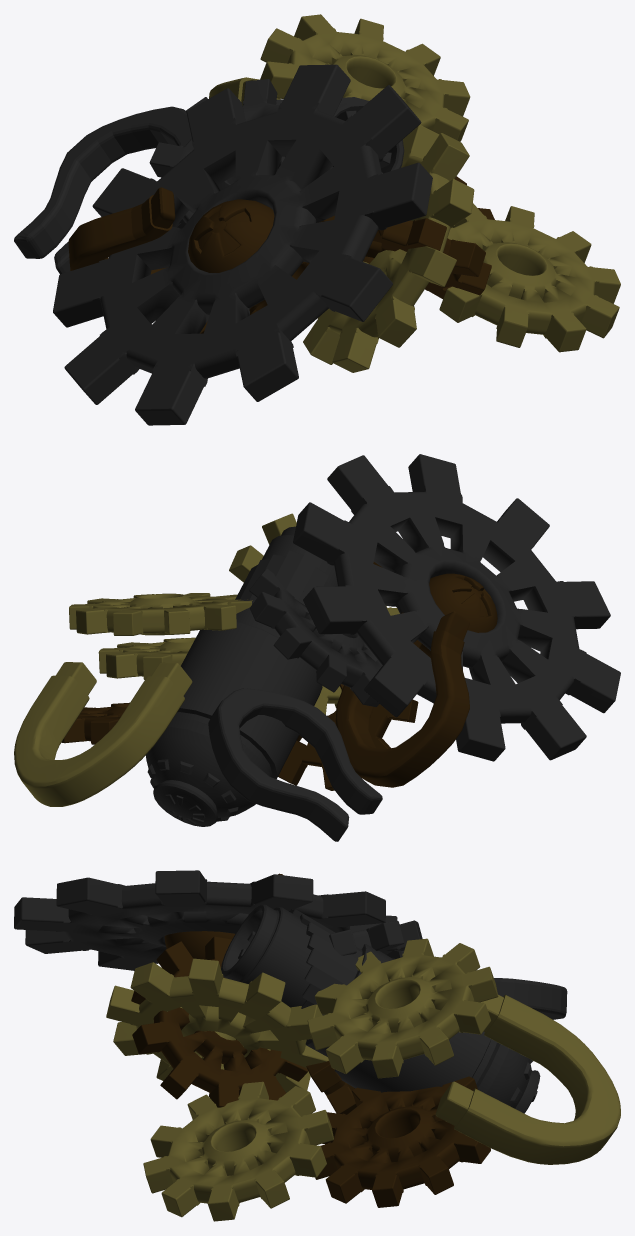
The model's file is decors.fbx.
The picture shows the model from 3 angles, top to bottom: view 1: azimuth 30°, elevation 25°; view 2: azimuth 150°, elevation 25°; view 3: azimuth 270°, elevation 25°; orthographic projection. The views are drawn at different scales.
Parts seen in each view (by area): view 1: Engrenage3, Engrenage24, Engrenage2, Engrenage19, pCube3, pSphere1, pCube1, Engrenage4, Engrenage23, Canon1; view 2: Engrenage3, Canon1, pCube7, pCube3, pCube1, Engrenage23, Engrenage19, pSphere1, Engrenage24, Engrenage18, Engrenage2, Engrenage25; view 3: Engrenage3, Engrenage24, Engrenage19, Canon1, pCube7, Engrenage25, Engrenage2, Engrenage4, Engrenage23, pCube3, Engrenage18, pSphere1.
Boxes of the visible parts, x1,y1,x2,y2 form: Engrenage3: [53, 64, 432, 425]; Engrenage24: [439, 203, 620, 352]; Engrenage2: [303, 125, 474, 372]; Engrenage19: [260, 14, 470, 141]; pCube3: [14, 106, 191, 274]; pSphere1: [188, 199, 274, 306]; pCube1: [68, 187, 175, 274]; Engrenage4: [320, 215, 491, 298]; Engrenage23: [149, 79, 279, 223]; Canon1: [178, 97, 404, 228]; Engrenage3: [293, 454, 620, 761]; Canon1: [145, 526, 337, 826]; pCube7: [14, 662, 192, 806]; pCube3: [208, 688, 382, 841]; pCube1: [335, 611, 469, 787]; Engrenage23: [249, 568, 382, 706]; Engrenage19: [69, 593, 252, 635]; pSphere1: [420, 573, 497, 657]; Engrenage24: [98, 637, 195, 679]; Engrenage18: [278, 684, 418, 790]; Engrenage2: [229, 513, 399, 714]; Engrenage25: [61, 702, 129, 744]; Engrenage3: [14, 870, 397, 970]; Engrenage24: [143, 1081, 333, 1221]; Engrenage19: [307, 938, 498, 1078]; Canon1: [221, 904, 540, 1113]; pCube7: [435, 994, 620, 1164]; Engrenage25: [315, 1076, 490, 1207]; Engrenage2: [106, 958, 328, 1096]; Engrenage4: [131, 936, 307, 1107]; Engrenage23: [329, 920, 422, 955]; pCube3: [494, 978, 567, 1019]; Engrenage18: [306, 1060, 356, 1114]; pSphere1: [164, 931, 234, 959].
Bounding box in the file's own units: 74.76 × 40.07 × 82.26.
